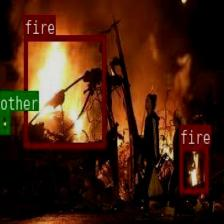fire: (23, 34, 105, 147), (179, 145, 208, 193)
